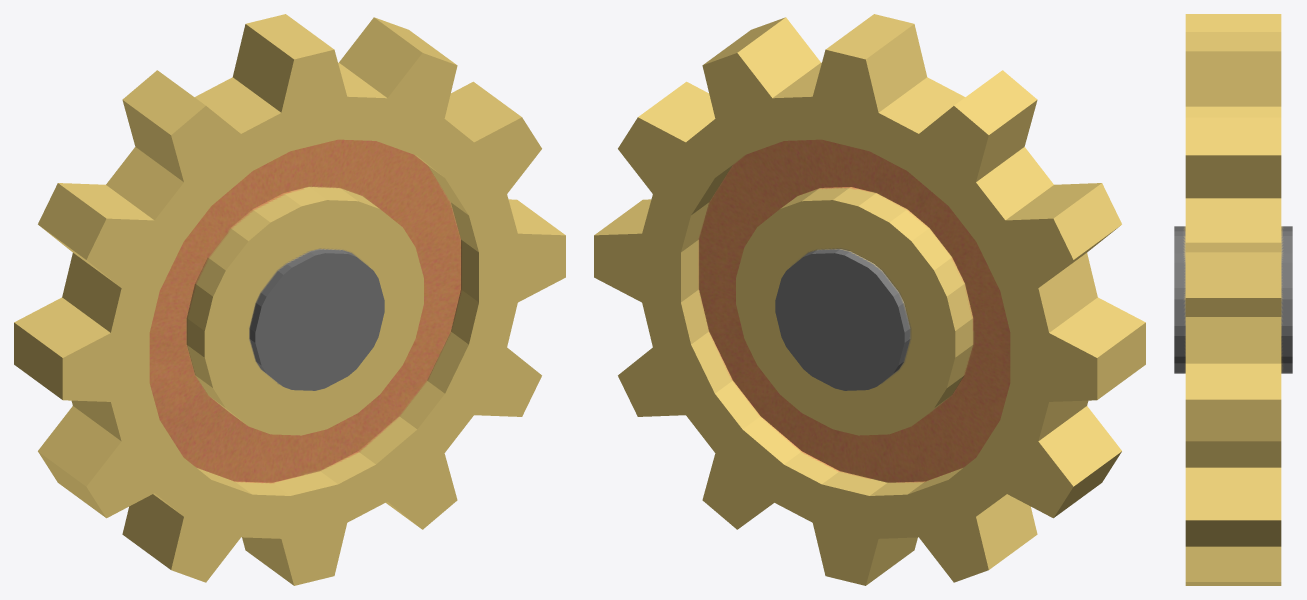
The model's file is Gear_Mesh08.fbx.
The picture shows the model from 3 angles, left to right: view 1: azimuth 30°, elevation 25°; view 2: azimuth 150°, elevation 25°; view 3: azimuth 270°, elevation 25°; orthographic projection.
Parts seen in each view (by area): view 1: Gear_Model08; view 2: Gear_Model08; view 3: Gear_Model08.
Boxes of the visible parts, box(x1,y1,x2,y2) form: Gear_Model08: box(14, 14, 565, 585); Gear_Model08: box(594, 14, 1145, 585); Gear_Model08: box(1174, 14, 1292, 585).
Bounding box in the file's own units: 8.55 × 8.55 × 1.77.
